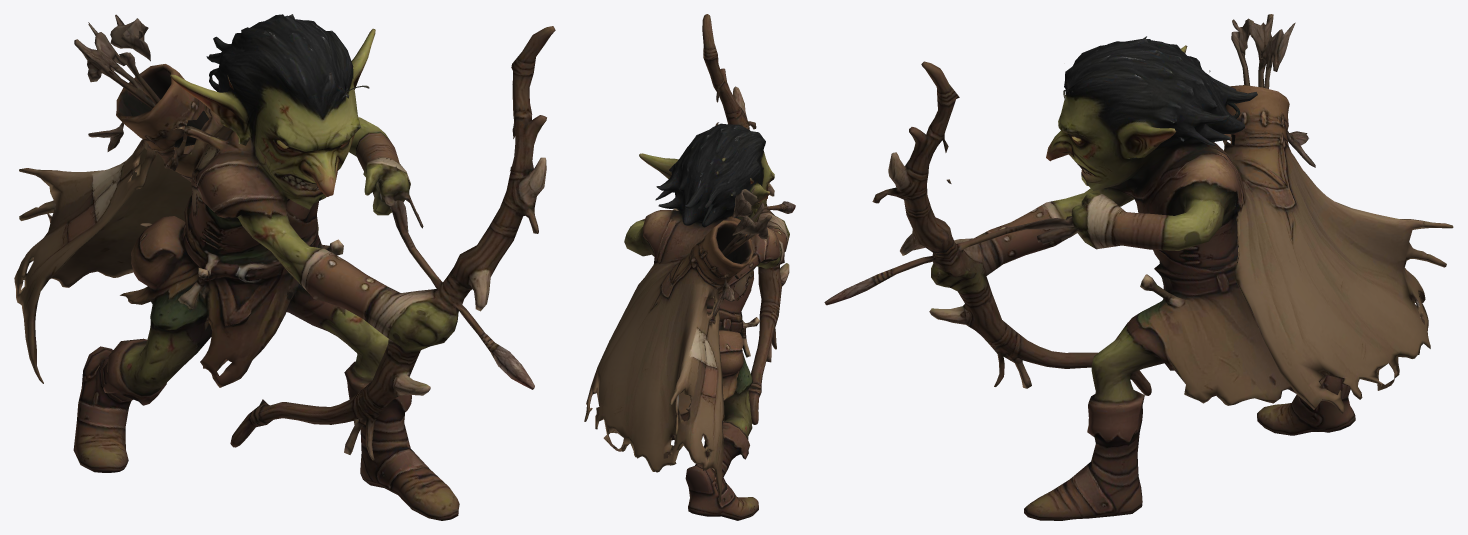
File: Goblin Arqueiro.glb
3 renders of one model, left to right at view 1: azimuth 30°, elevation 25°; view 2: azimuth 150°, elevation 25°; view 3: azimuth 270°, elevation 25°, orthographic. The views are drawn at different scales.
Visible parts, largest first — view 1: tripo_node_e6374805-318c-40cd-ba21-93d2b4af5097; view 2: tripo_node_e6374805-318c-40cd-ba21-93d2b4af5097; view 3: tripo_node_e6374805-318c-40cd-ba21-93d2b4af5097.
Part boxes in pixels (<box>): tripo_node_e6374805-318c-40cd-ba21-93d2b4af5097: <box>14,14,555,520</box>; tripo_node_e6374805-318c-40cd-ba21-93d2b4af5097: <box>584,14,795,520</box>; tripo_node_e6374805-318c-40cd-ba21-93d2b4af5097: <box>824,14,1453,520</box>.
Bounding box in the file's own units: 0.4682 × 0.812 × 0.9754.
Materials: 1 (1 with a texture image).
